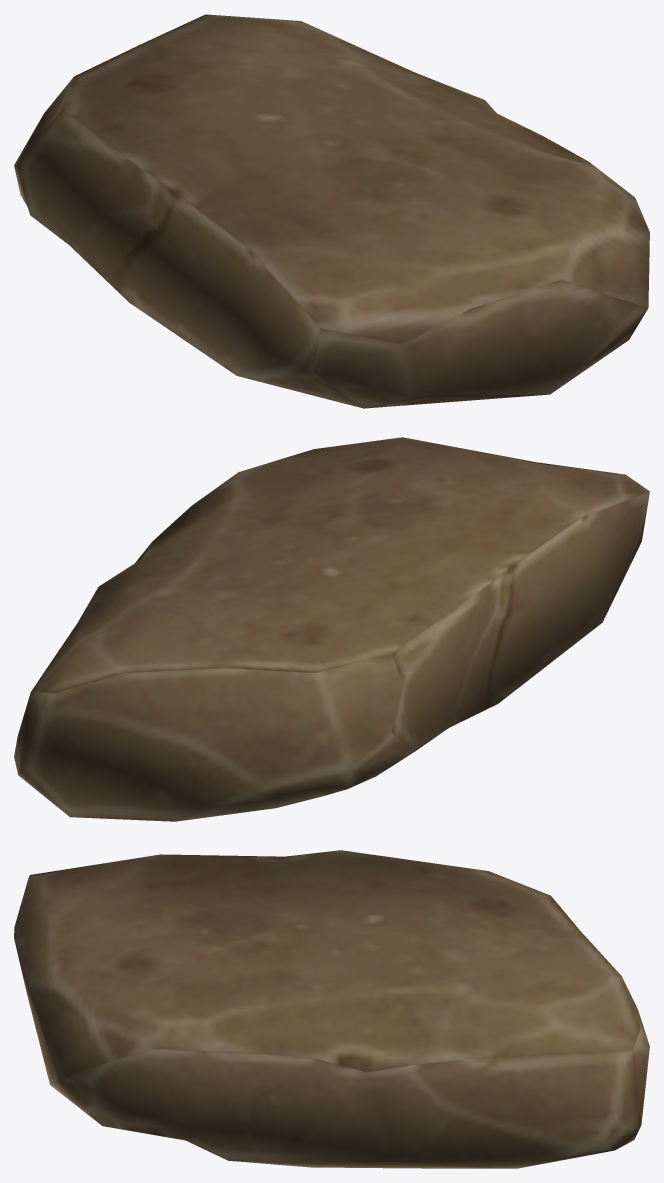
File: Xuanjue_st.FBX
3 views of the same model, one above another, from view 1: azimuth 30°, elevation 25°; view 2: azimuth 150°, elevation 25°; view 3: azimuth 270°, elevation 25° (orthographic). The views are drawn at different scales.
Visible parts, largest first — view 1: Xuanjue_st; view 2: Xuanjue_st; view 3: Xuanjue_st.
Boxes of the visible parts, x1,y1,x2,y2 form: Xuanjue_st: [14, 14, 649, 408]; Xuanjue_st: [14, 437, 649, 821]; Xuanjue_st: [14, 850, 649, 1168].
Size of the model in its own units: 67.02 by 108 by 33.36.
1 material, 1 textured.
